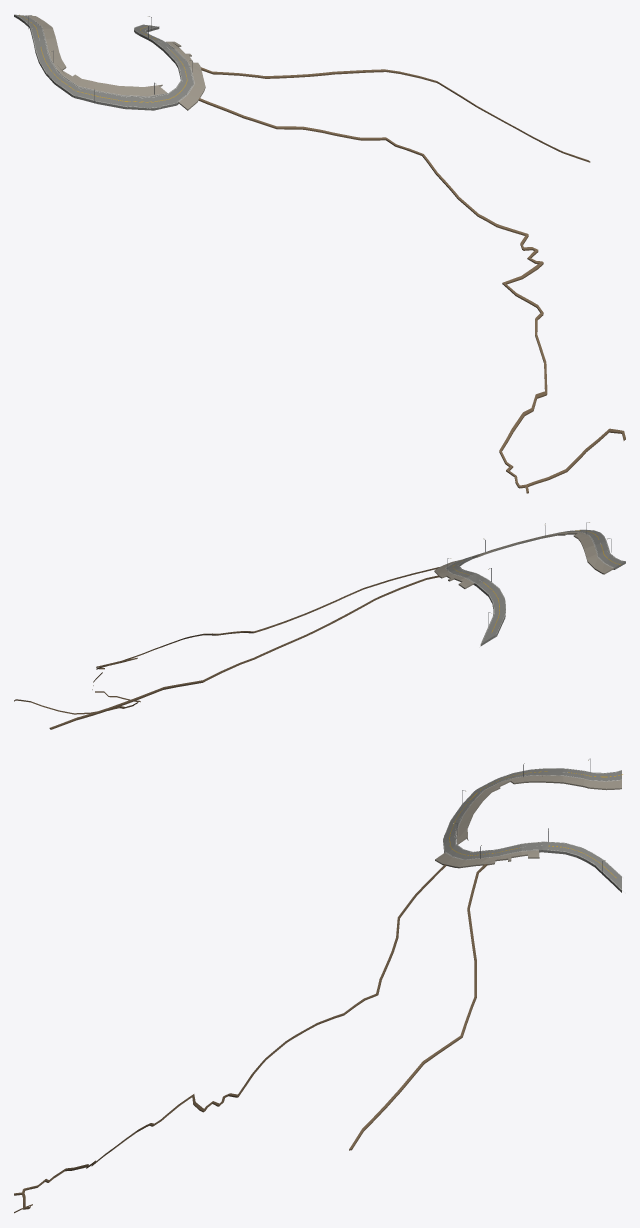
3 views of the same model, one above another, from view 1: azimuth 30°, elevation 25°; view 2: azimuth 210°, elevation 25°; view 3: azimuth 270°, elevation 25° (orthographic).
Size of the model in its own units: 262 by 174 by 294.
